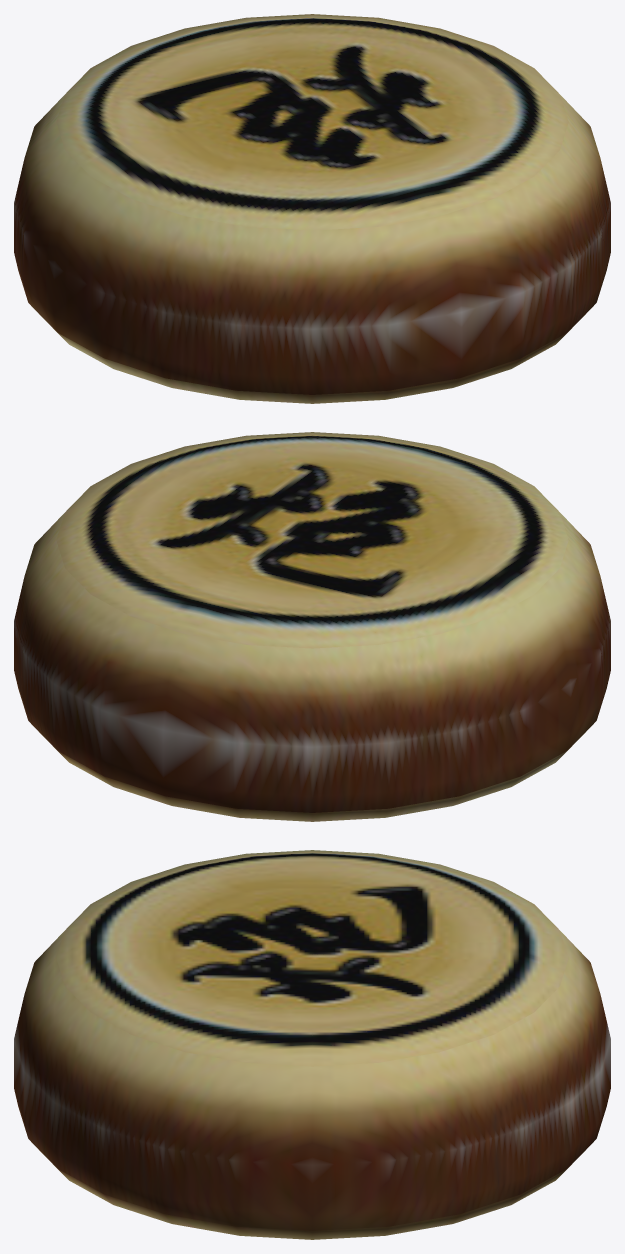
Rendered from Black_09_cannon_left.gltf.
3 views of the same model, one above another, from view 1: azimuth 30°, elevation 25°; view 2: azimuth 150°, elevation 25°; view 3: azimuth 270°, elevation 25° (orthographic).
Parts seen in each view (by area): view 1: Black_09_cannon_left; view 2: Black_09_cannon_left; view 3: Black_09_cannon_left.
Part boxes in pixels (x1,y1,x2,y2): Black_09_cannon_left: [14, 14, 610, 403]; Black_09_cannon_left: [14, 432, 610, 821]; Black_09_cannon_left: [14, 850, 610, 1239].
Bounding box in the file's own units: 0.0468 × 0.0155 × 0.0468.
1 material, 1 textured.
